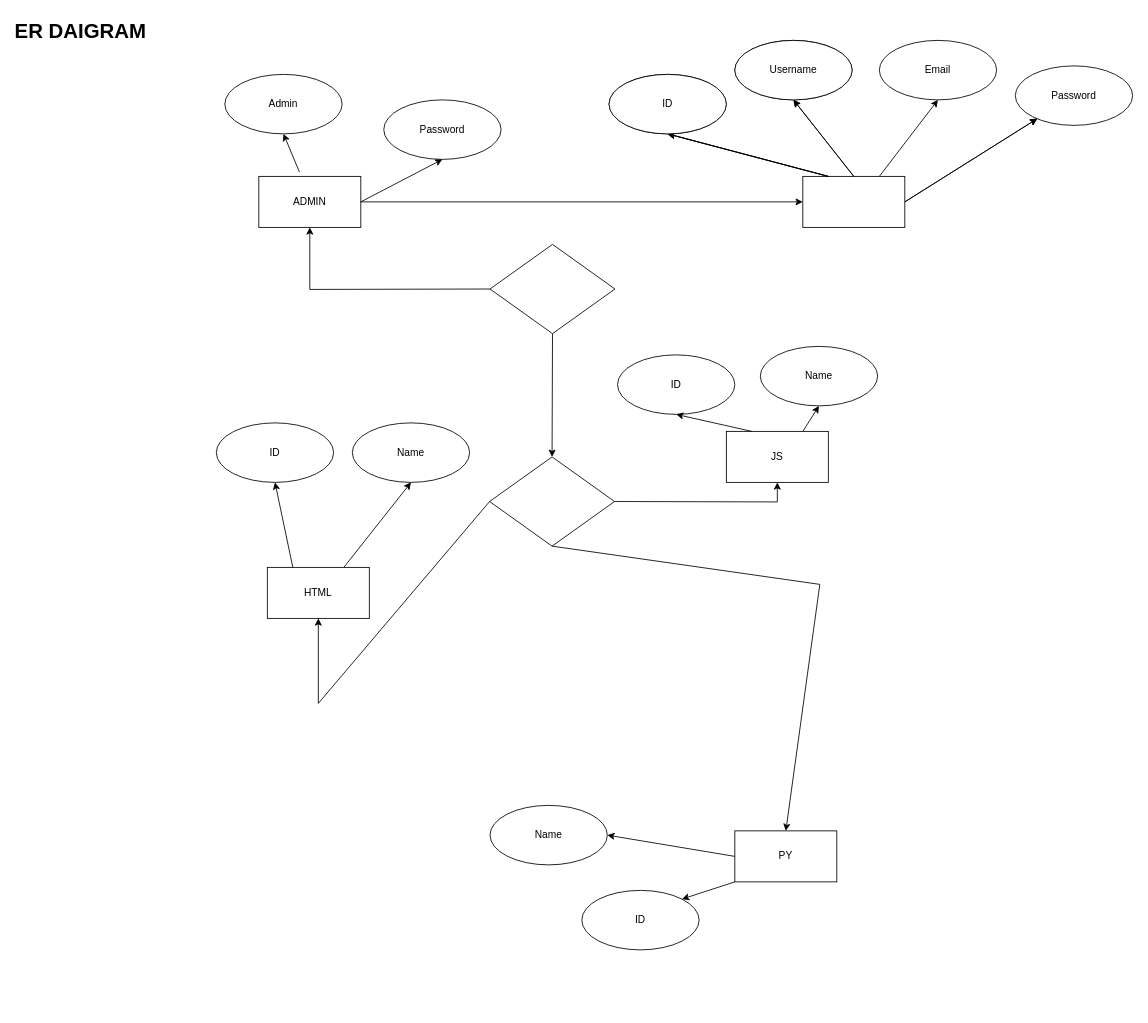
Some shapes in this 1148 by 1023 pixel diagram are drawn without their labels. The shapes that lost their labels are listed below. From the top down, each one's centre as x and y in pixels, then its label:
At [853,201]: "USER".
At [552,289]: "LOGINSYSTEM".
At [552,501]: "NEW_TASK".
